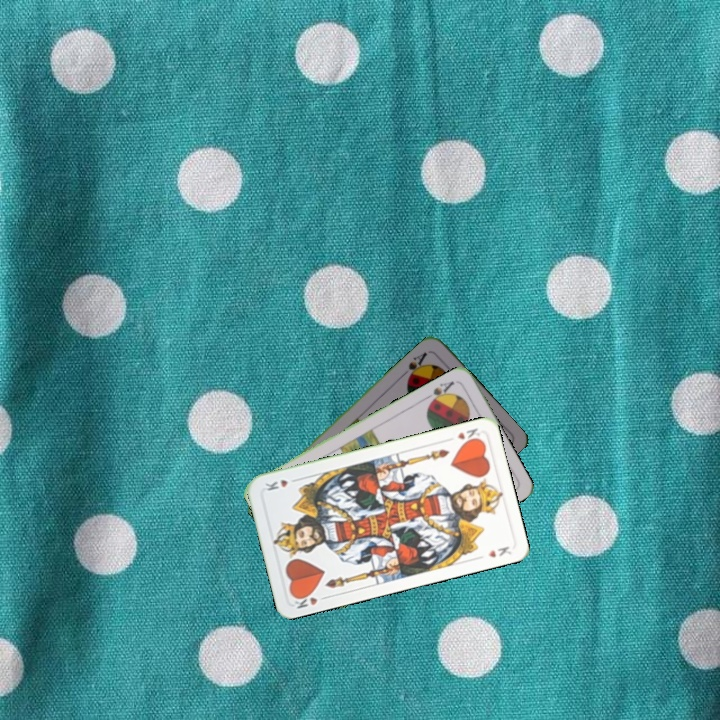HK: (289, 588, 330, 611), (453, 424, 485, 446)
SA: (398, 348, 430, 383), (421, 377, 457, 407)
